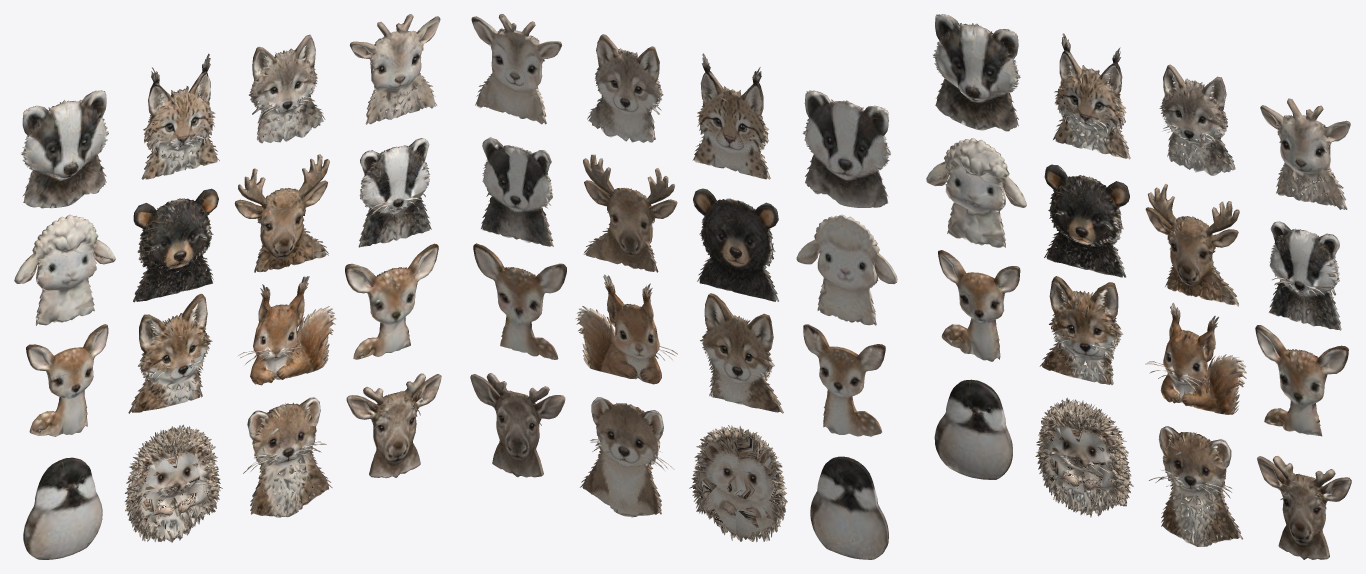
3 renders of one model, left to right at view 1: azimuth 30°, elevation 25°; view 2: azimuth 150°, elevation 25°; view 3: azimuth 330°, elevation 25°, orthographic.
Visible parts, largest first — view 1: Mesh 5, Mesh 2, Mesh 11, Mesh 7, Mesh 1, Mesh 6, Mesh 16, Mesh 3, Mesh 8, Mesh 9, Mesh 12, Mesh 10 (+4 smaller); view 2: Mesh 5, Mesh 2, Mesh 11, Mesh 7, Mesh 1, Mesh 6, Mesh 3, Mesh 16, Mesh 8, Mesh 9, Mesh 10, Mesh 12 (+4 smaller); view 3: Mesh 5, Mesh 2, Mesh 11, Mesh 7, Mesh 1, Mesh 6, Mesh 16, Mesh 3, Mesh 8, Mesh 9, Mesh 12, Mesh 10 (+4 smaller).
Boxes of the visible parts, <box> form: Mesh 5: <box>125,424,222,542</box>; Mesh 2: <box>21,90,108,208</box>; Mesh 11: <box>243,397,332,517</box>; Mesh 7: <box>133,188,218,302</box>; Mesh 1: <box>14,214,115,325</box>; Mesh 6: <box>128,293,212,413</box>; Mesh 16: <box>358,138,431,247</box>; Mesh 3: <box>23,457,102,559</box>; Mesh 8: <box>141,53,219,179</box>; Mesh 9: <box>234,154,329,272</box>; Mesh 12: <box>249,34,325,143</box>; Mesh 10: <box>238,276,335,385</box>; Mesh 5: <box>689,425,787,542</box>; Mesh 2: <box>802,90,890,207</box>; Mesh 11: <box>579,397,674,517</box>; Mesh 7: <box>693,188,778,301</box>; Mesh 1: <box>796,214,897,325</box>; Mesh 6: <box>700,293,783,413</box>; Mesh 3: <box>810,456,888,559</box>; Mesh 16: <box>481,137,553,246</box>; Mesh 8: <box>692,53,770,179</box>; Mesh 9: <box>583,154,677,272</box>; Mesh 10: <box>575,274,677,384</box>; Mesh 12: <box>587,34,663,142</box>; Mesh 5: <box>1035,397,1133,517</box>; Mesh 2: <box>933,14,1020,131</box>; Mesh 11: <box>1148,426,1242,546</box>; Mesh 7: <box>1044,164,1129,277</box>; Mesh 1: <box>926,138,1026,247</box>; Mesh 6: <box>1039,276,1123,384</box>; Mesh 16: <box>1268,221,1341,330</box>; Mesh 3: <box>934,379,1012,479</box>; Mesh 8: <box>1053,33,1130,159</box>; Mesh 9: <box>1145,184,1239,306</box>; Mesh 12: <box>1159,64,1235,175</box>; Mesh 10: <box>1145,302,1246,414</box>.
Bounding box in the file's own units: 1.76 × 1.9 × 0.0487.
Materials: 16 (16 with a texture image).
